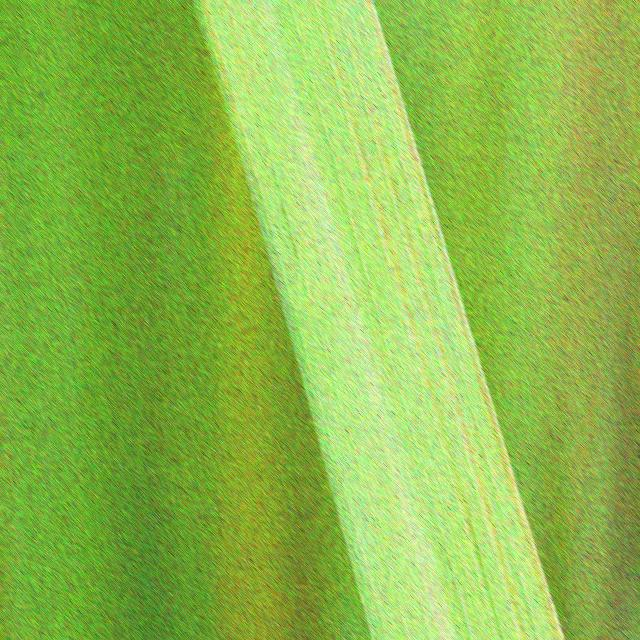BLS: (366, 0, 563, 640), (317, 0, 502, 640), (343, 11, 527, 640), (202, 0, 282, 267), (220, 0, 249, 91)
